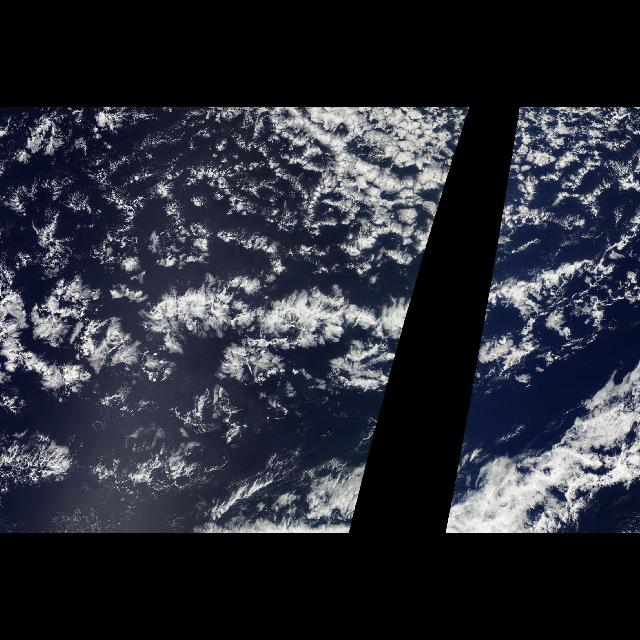Flower: (1, 111, 470, 423), (463, 111, 634, 423)
